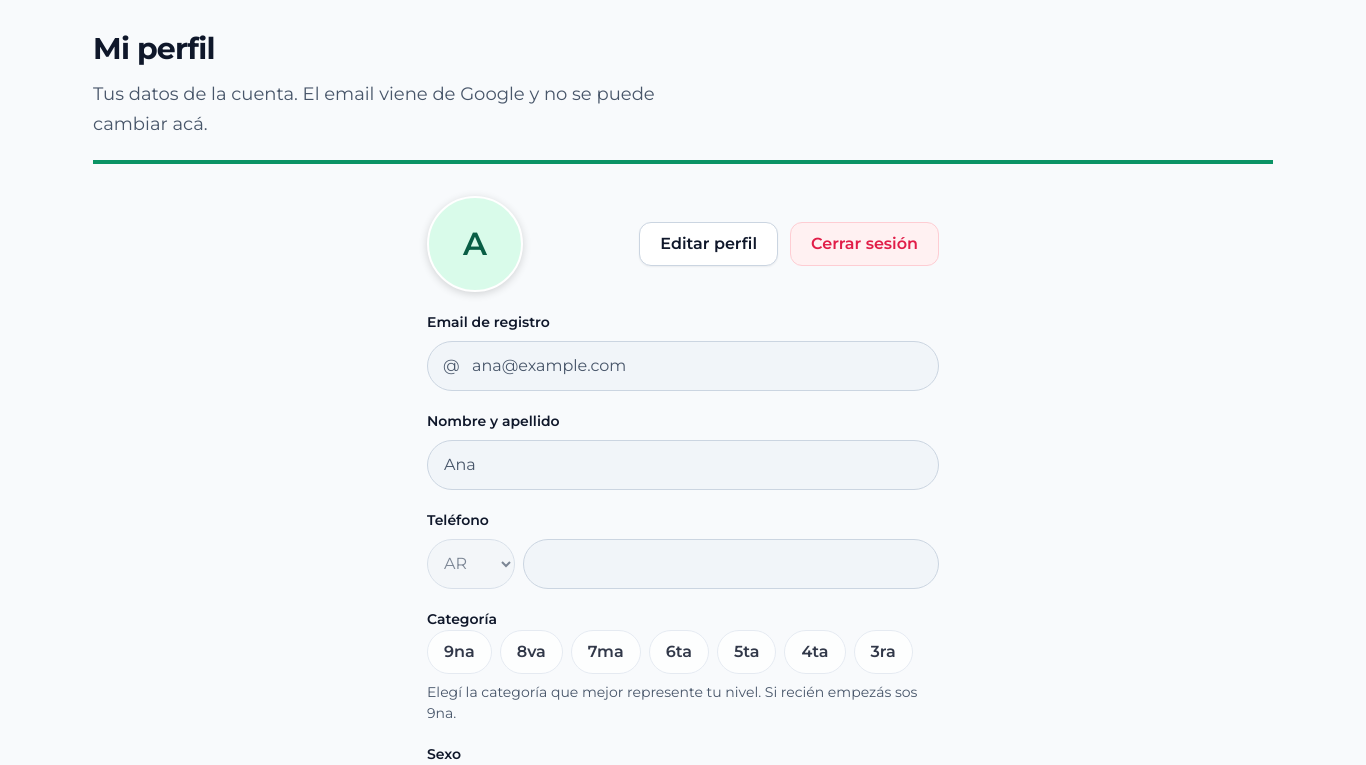
Test: ProfilePage › can start and cancel name editing
Click the button "Editar perfil" at (709, 244), box [639,222,778,266]
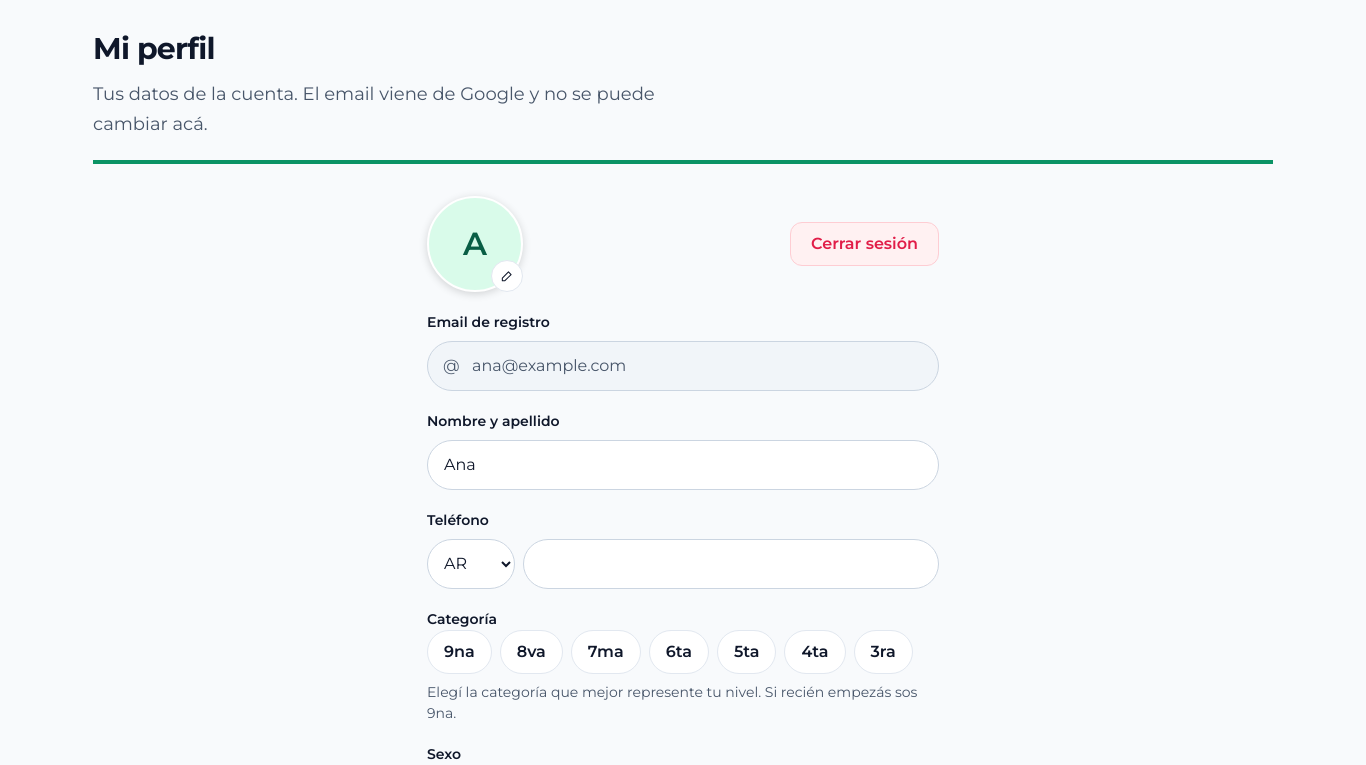
Replace the text in the field labelled "Nombre y apellido" with "Ana Gomez" at (683, 465), box [427,440,939,490]
(page scrolled)
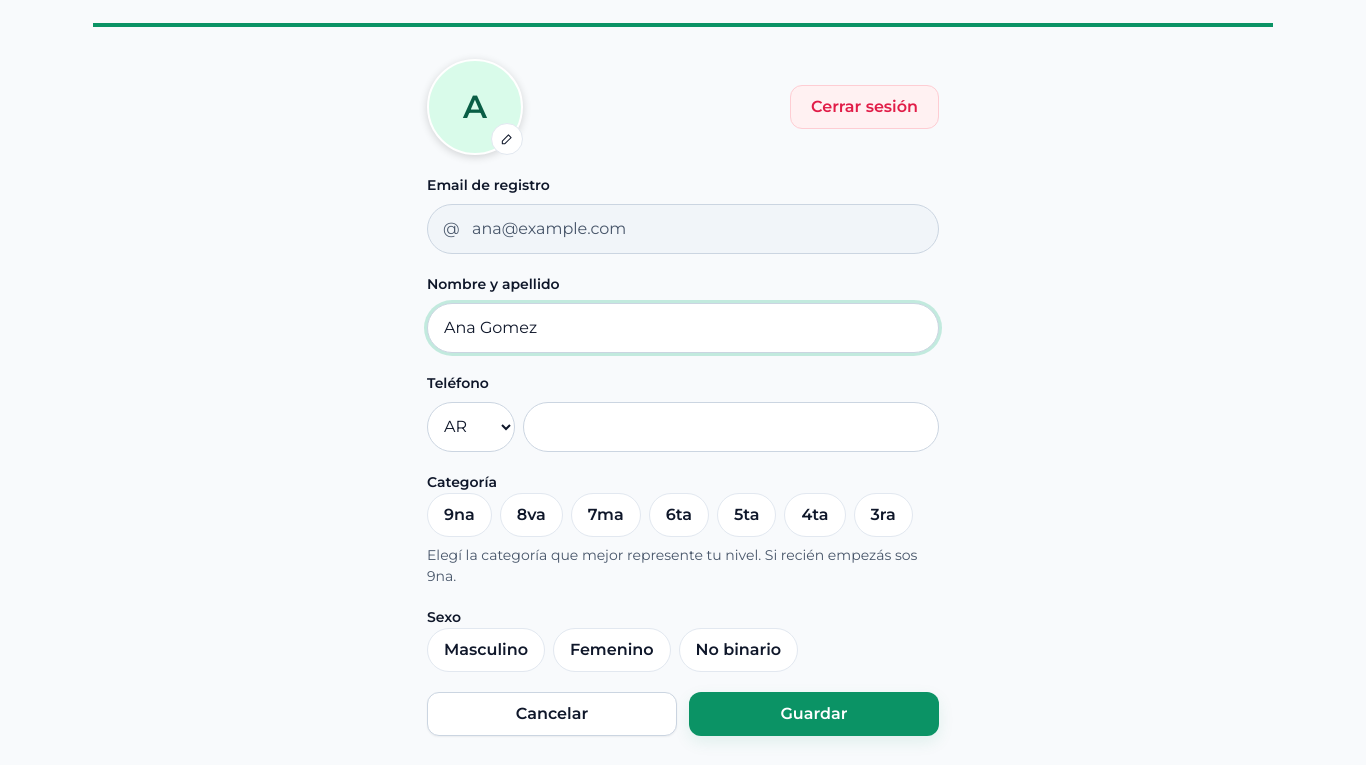
Click the button "Cancelar" at (552, 714), box [427,692,677,736]
(page scrolled)
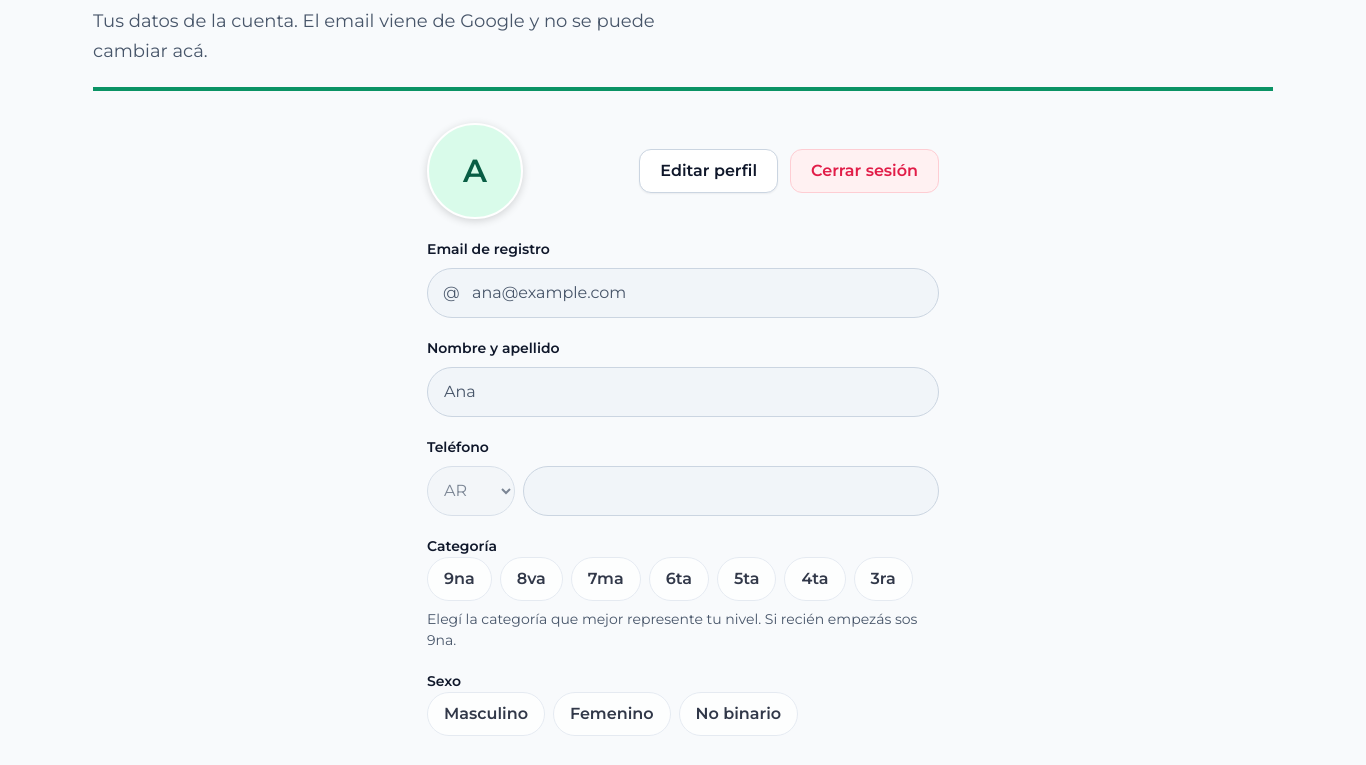
Expected: the field showing "Ana" is shown, [427,367,939,417]
Expected: the button "Guardar" is gone
